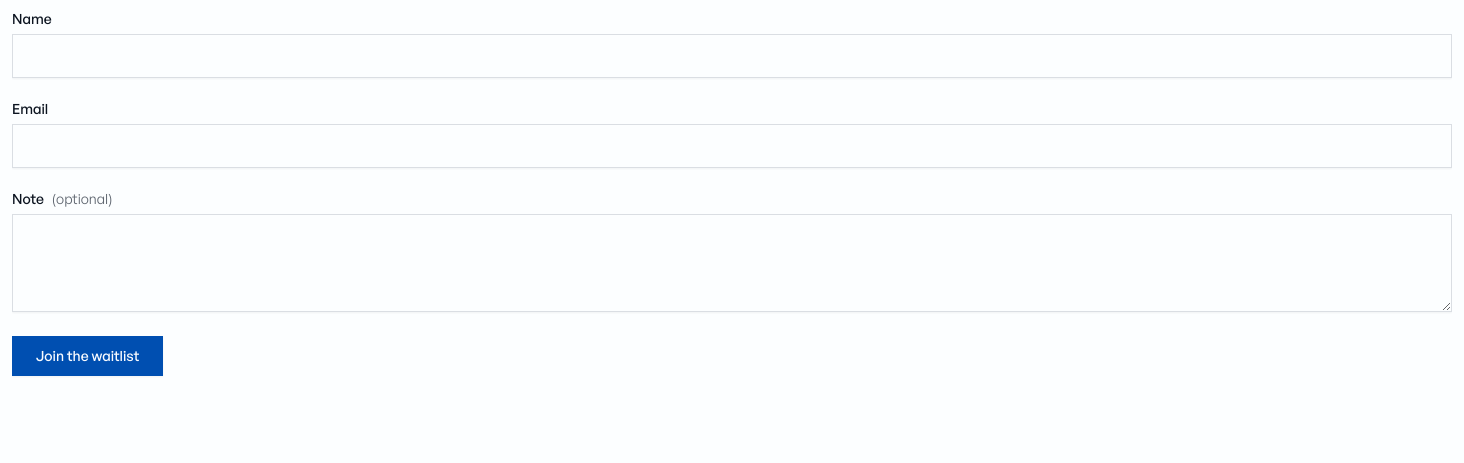
Test: WaitlistForm › shows an error state when the backend rejects the submission
Expected: the button "Join the waitlist" is shown, [12, 336, 163, 376]
Type "Grace Hopper" into the field labelled "Name".
click(732, 56); type("Grace Hopper")  # box [12, 34, 1452, 78]
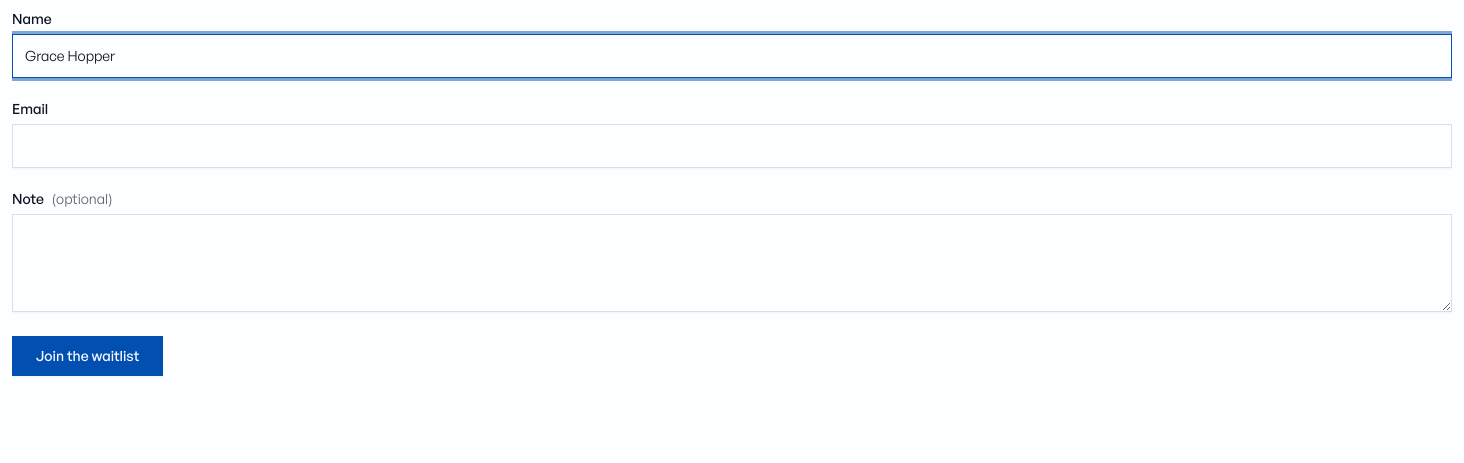
Expected: the button "Join the waitlist" is shown, [12, 336, 163, 376]
Type "grace@example.com" into the field labelled "Email".
click(732, 146); type("grace@example.com")  # box [12, 124, 1452, 168]
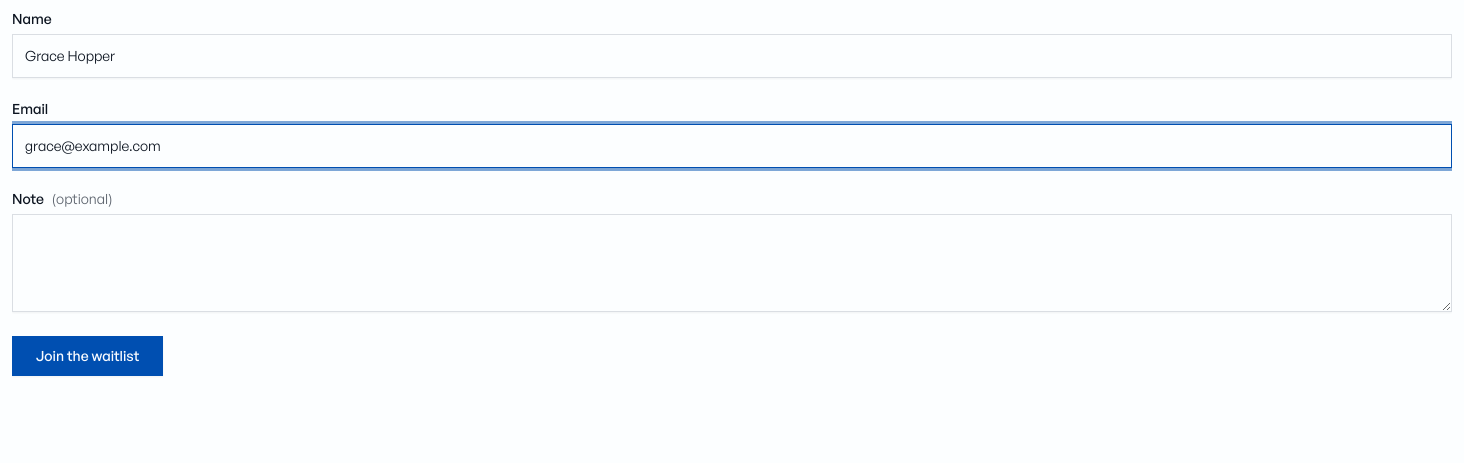
Click the button "Join the waitlist".
click(88, 356)  # box [12, 336, 163, 376]
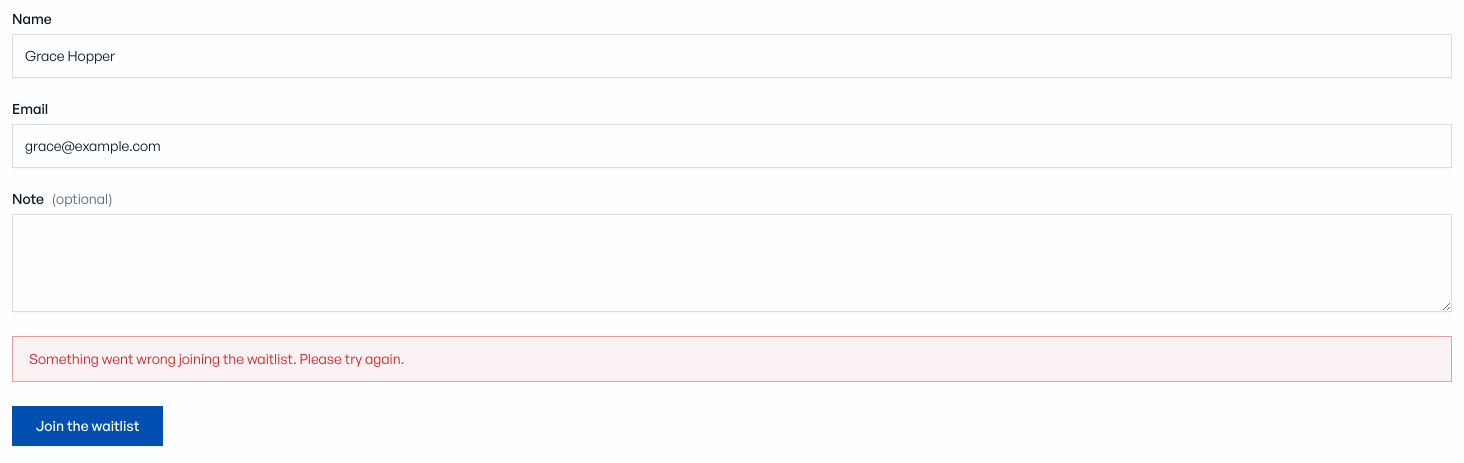
Expected: the message "Something went wrong joining the waitlist. Please try again." is shown, [12, 336, 1452, 382]
